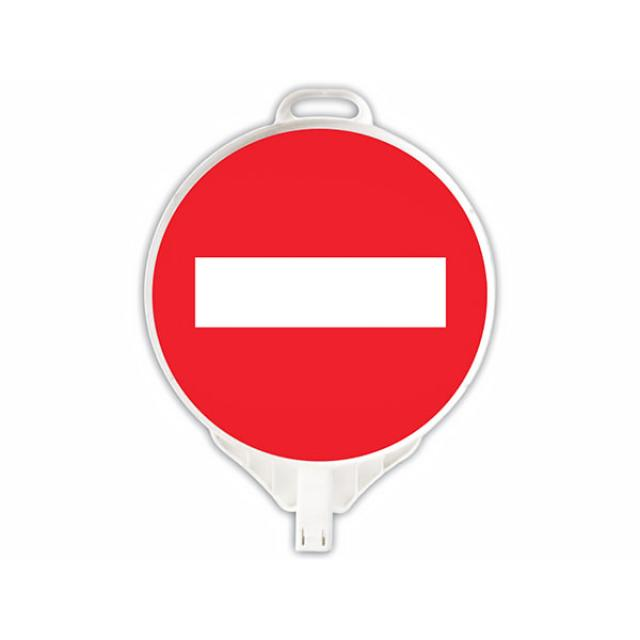Sens-Interdit: (144, 116, 494, 464)
